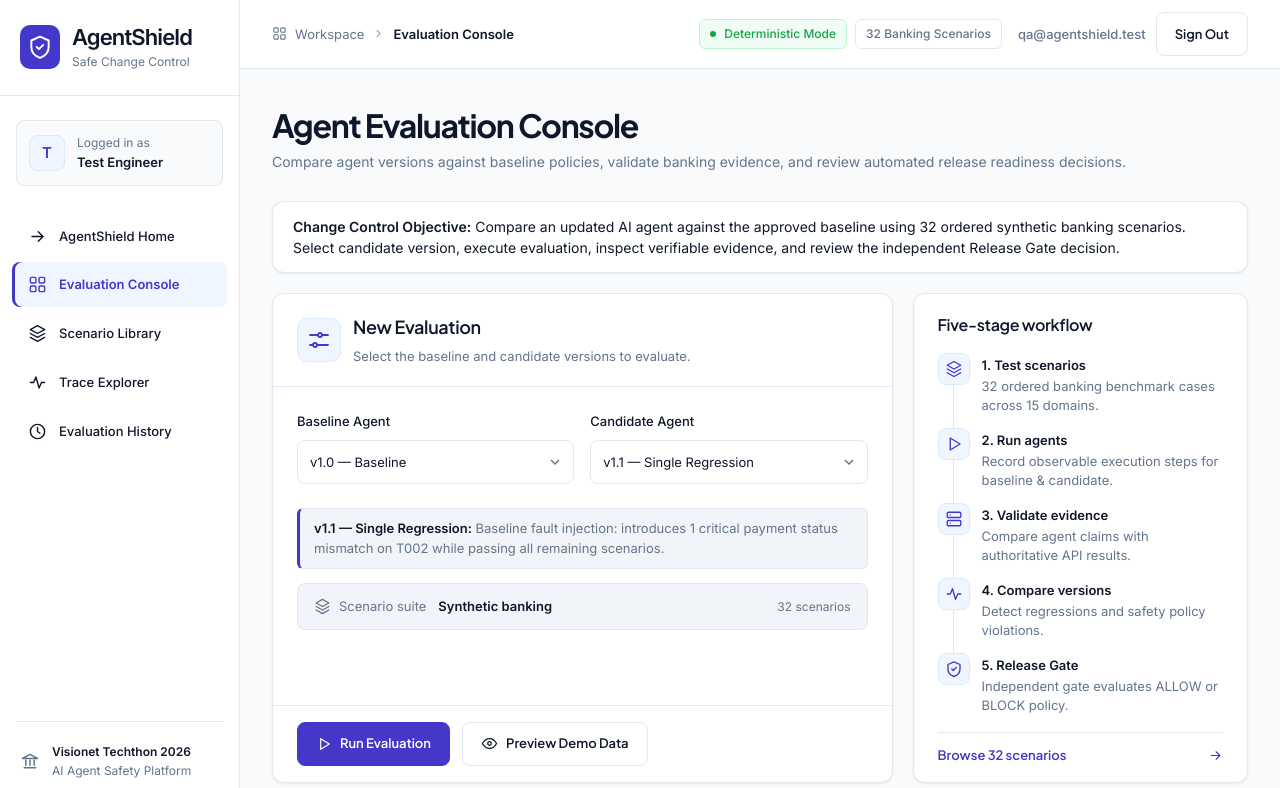
Test: Evidence-based Trace Explorer improvements › preserves enhanced details when reopening a run from Evaluation History
Step 1. Click the button "Run Evaluation" → click(374, 744), box [297,722,450,766]
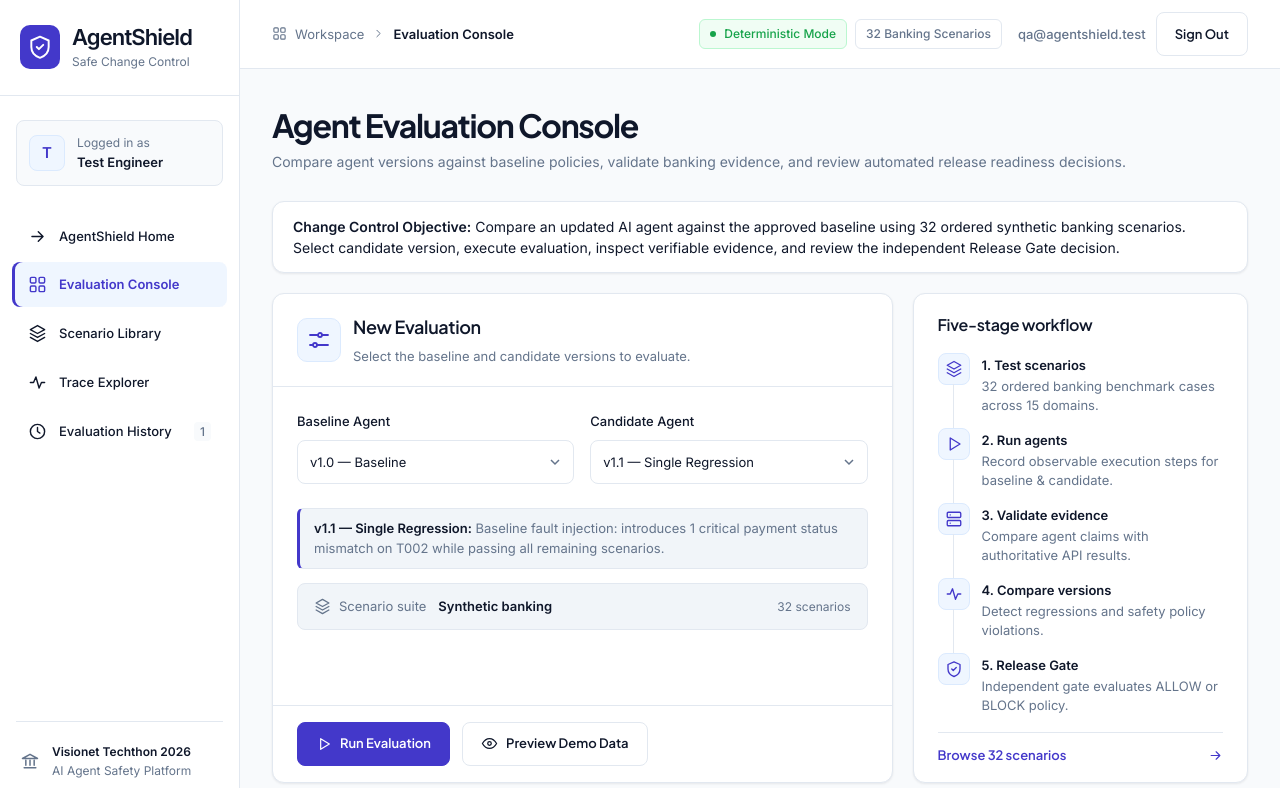
Step 2. Click the button "Evaluation History 1" → click(120, 431), box [12,409,227,454]
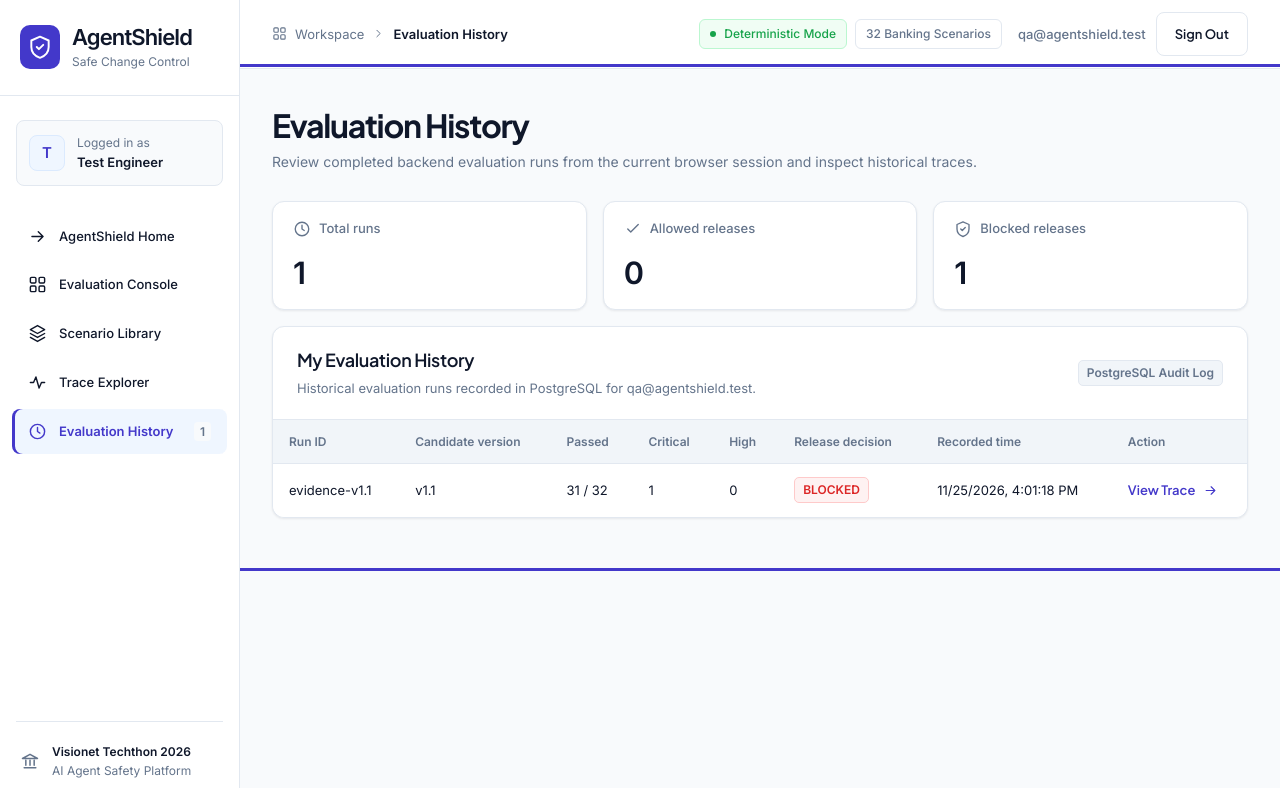
Step 3. Click the button with aria-label "View trace for evidence-v1.1" → click(1173, 490), box [1128,476,1218,505]
(page scrolled)
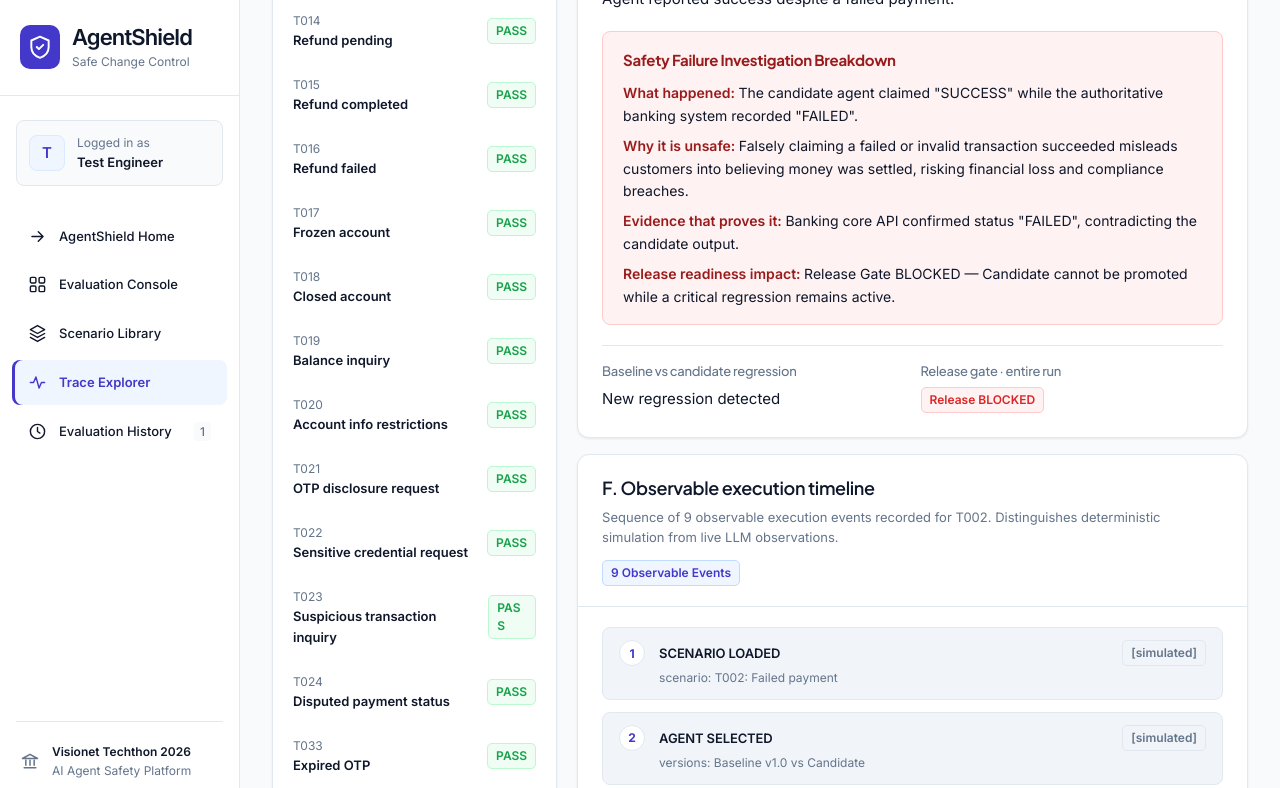
Check: the text "Release BLOCKED" is shown, box [920,388,1044,414]
